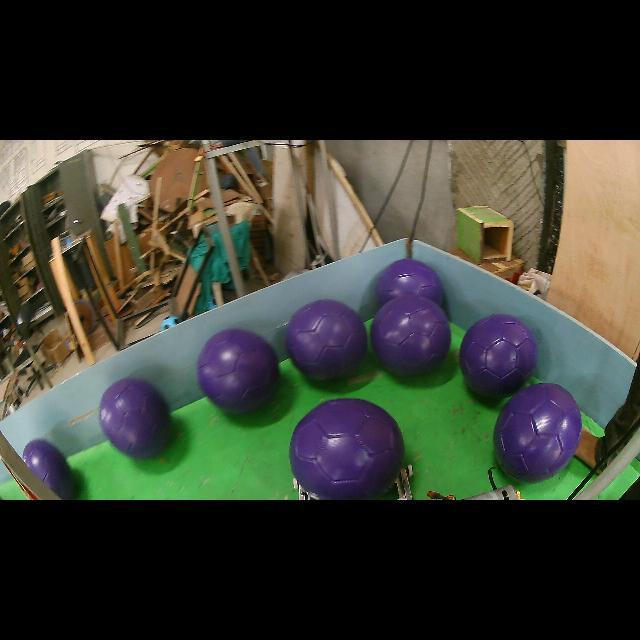P: (290, 399, 405, 499), (494, 384, 581, 482), (198, 329, 279, 414), (286, 299, 368, 380), (460, 314, 538, 398), (371, 295, 451, 375), (99, 378, 171, 460), (22, 439, 75, 500), (376, 259, 444, 305)
